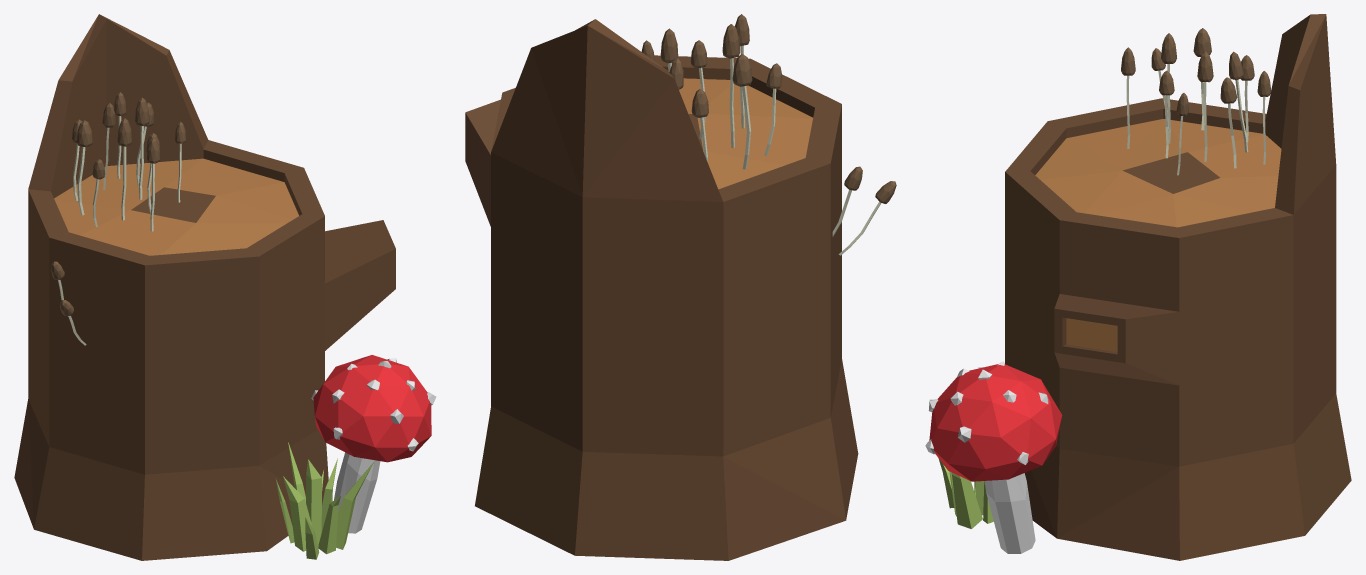
The model's file is stump-04.glb.
3 renders of one model, left to right at view 1: azimuth 30°, elevation 25°; view 2: azimuth 150°, elevation 25°; view 3: azimuth 270°, elevation 25°, orthographic. The views are drawn at different scales.
Visible parts, largest first — view 1: Stump5; view 2: Stump5; view 3: Stump5.
Boxes of the visible parts, left/top/right/bottom form: Stump5: left=14, top=14, right=436, bottom=560; Stump5: left=465, top=14, right=896, bottom=560; Stump5: left=925, top=14, right=1351, bottom=560.
Bounding box in the file's own units: 1.6 × 1.97 × 1.59.
